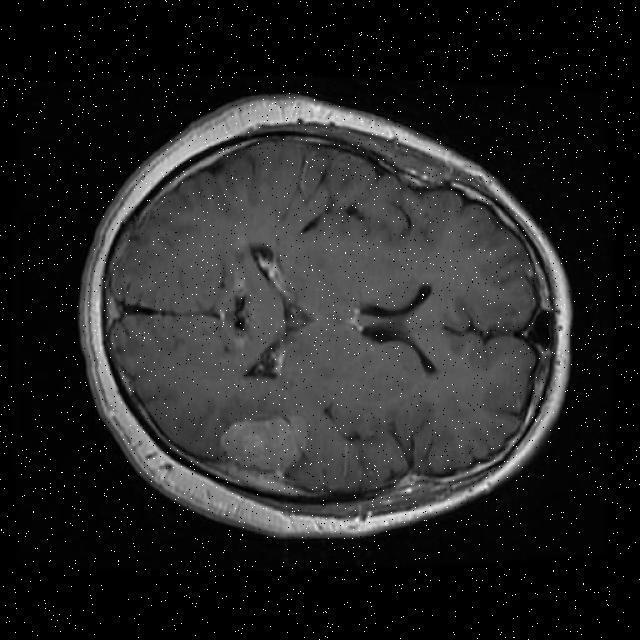Meningioma: (217, 416, 311, 495)
